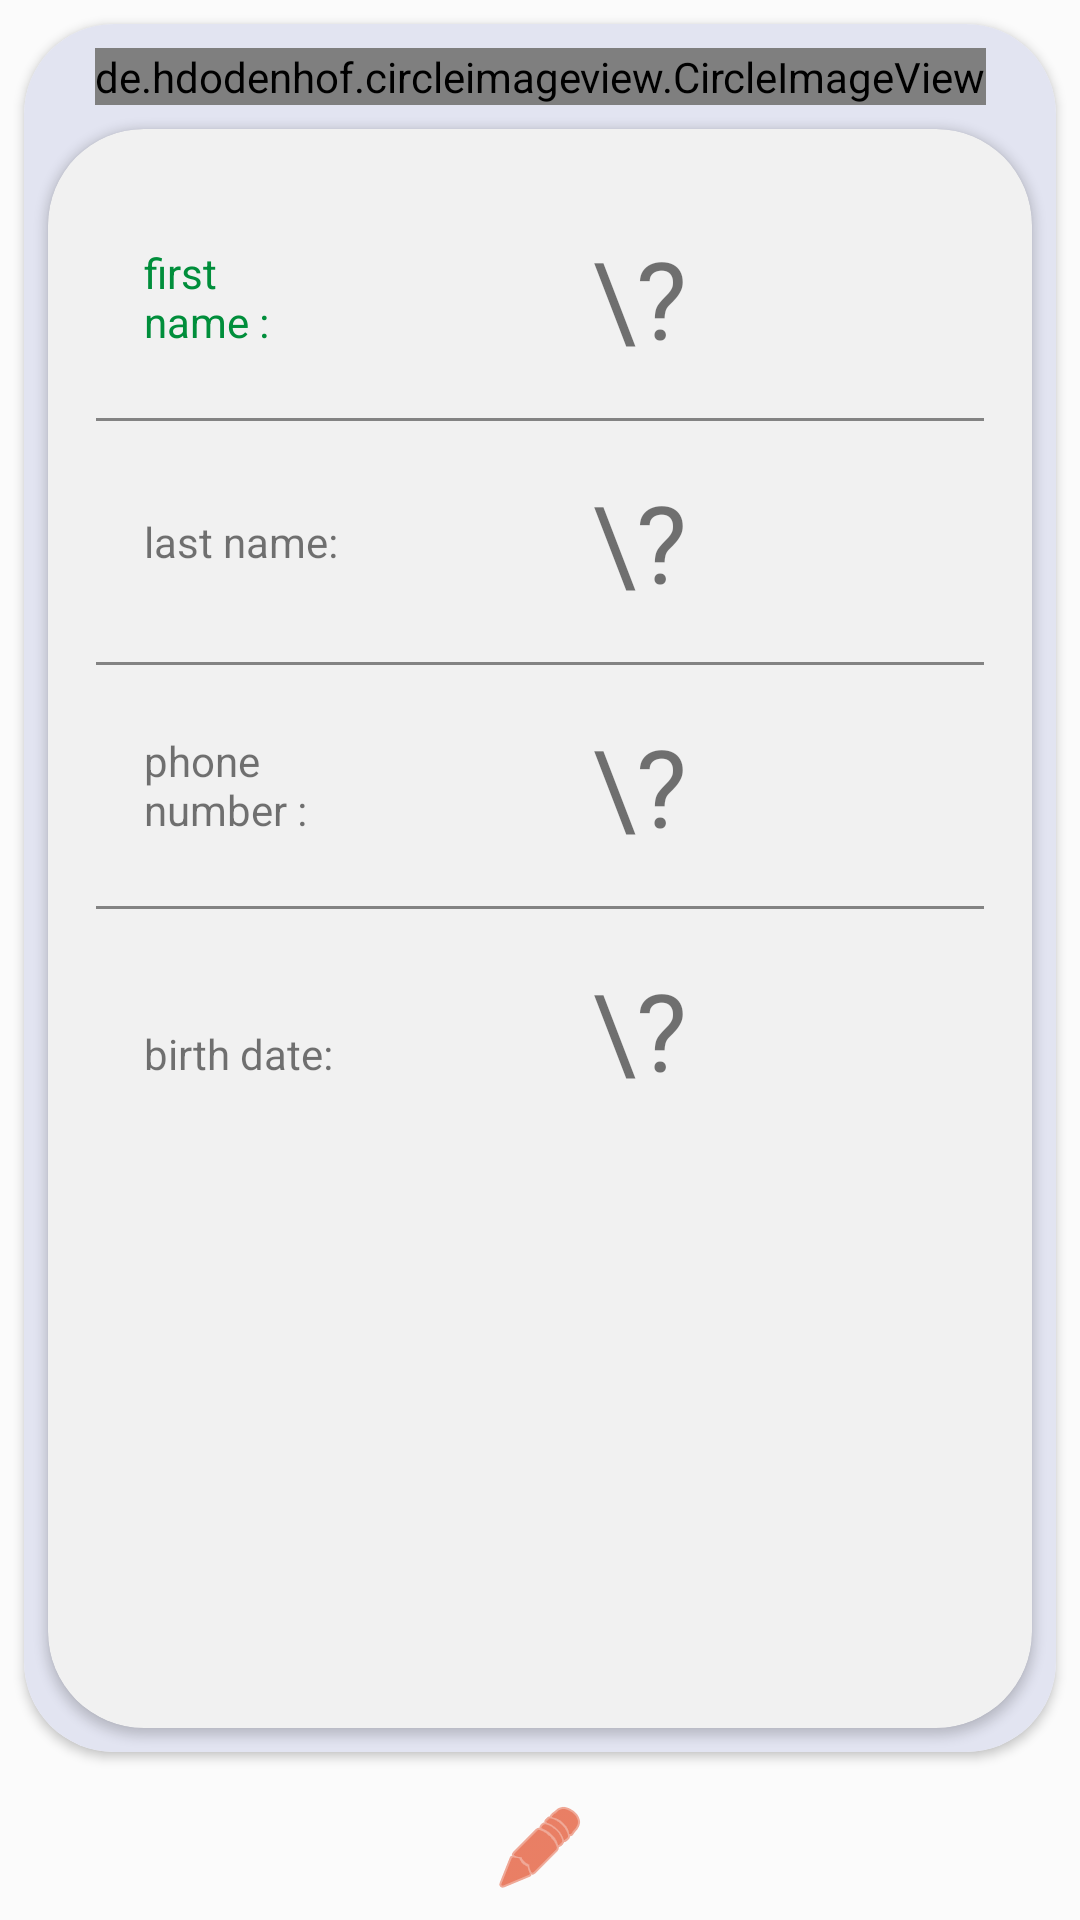

Where to tap for icons on this 1080 × 1920 app screen, as [x,y]:
edit: [539,1847]
